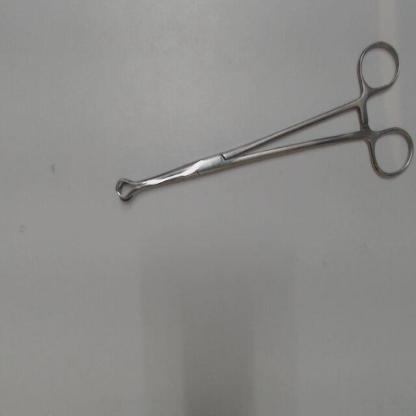8 Babcock Tissue Forceps: (111, 33, 414, 209)
